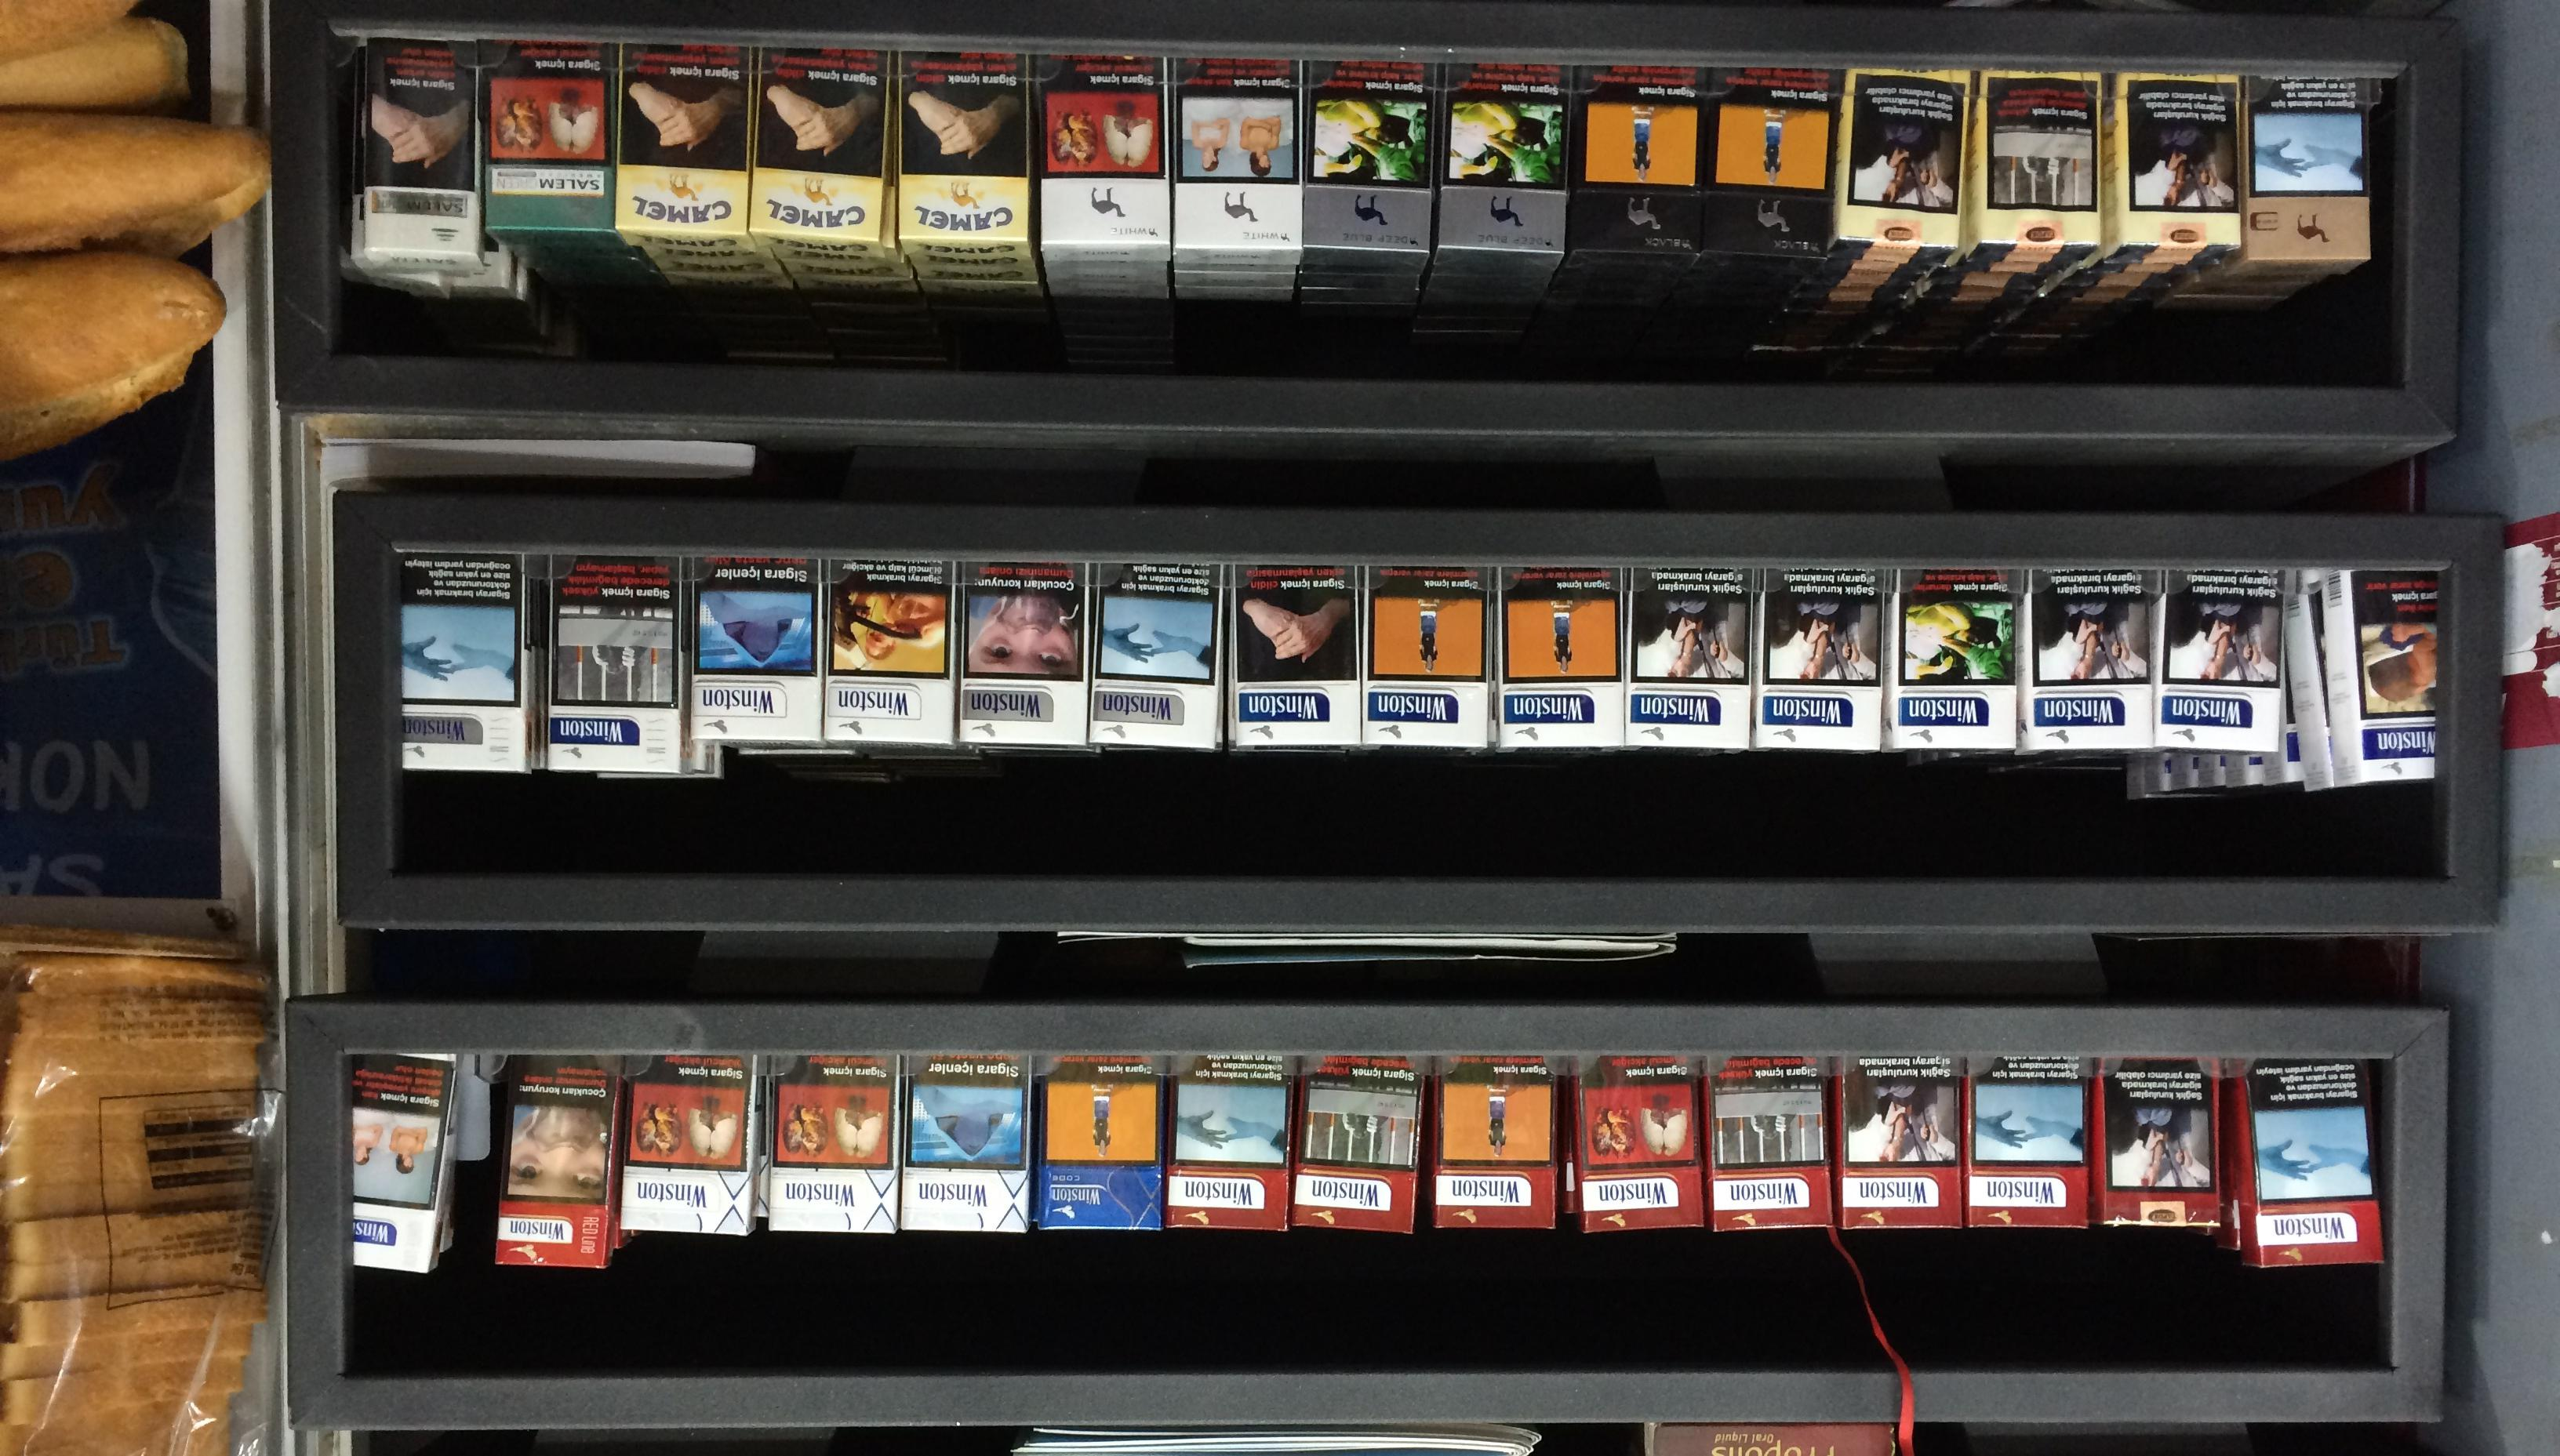product: (171, 174, 343, 396), (2068, 1187, 2207, 1419), (1883, 684, 2022, 899), (2022, 681, 2159, 895), (1804, 1208, 1943, 1416), (1934, 1217, 2071, 1424), (1523, 1205, 1660, 1412), (1670, 1205, 1807, 1412), (1378, 1199, 1516, 1405), (1939, 186, 2062, 396), (183, 1187, 318, 1377), (1252, 1199, 1391, 1375), (847, 1203, 986, 1377), (311, 1203, 450, 1377), (712, 1203, 851, 1377), (986, 1199, 1124, 1375), (1115, 1205, 1252, 1380), (847, 227, 986, 399), (1387, 220, 1526, 392), (327, 218, 466, 390), (468, 220, 607, 392), (719, 218, 858, 390), (450, 1203, 587, 1377), (578, 1203, 716, 1377), (990, 218, 1127, 390), (1131, 218, 1268, 390), (1262, 220, 1400, 392), (591, 220, 728, 392), (1799, 218, 1934, 392), (120, 666, 232, 876), (276, 703, 406, 883), (540, 700, 670, 879), (1531, 218, 1660, 399), (1663, 218, 1792, 399), (408, 707, 538, 885), (939, 703, 1067, 883), (1067, 703, 1196, 883), (1199, 703, 1327, 883), (675, 700, 804, 879), (1335, 710, 1463, 888), (1472, 710, 1600, 888), (1604, 707, 1732, 885), (1735, 707, 1864, 885), (798, 707, 927, 885), (2106, 186, 2210, 396)
